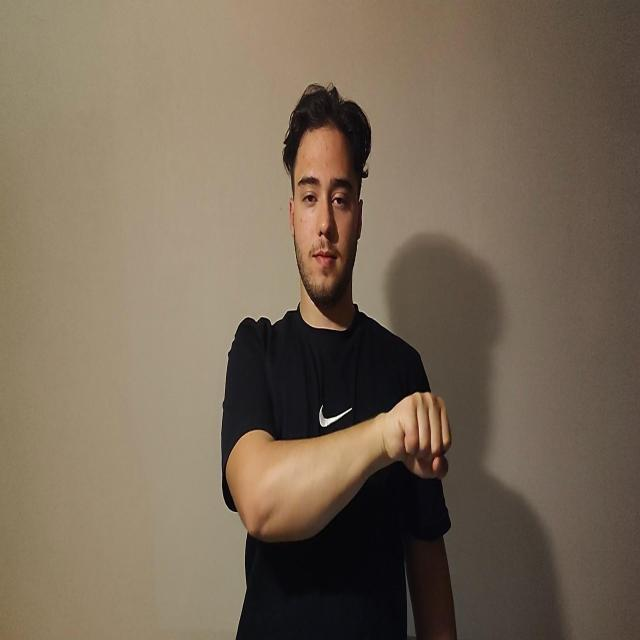yes: (382, 390, 452, 481)
